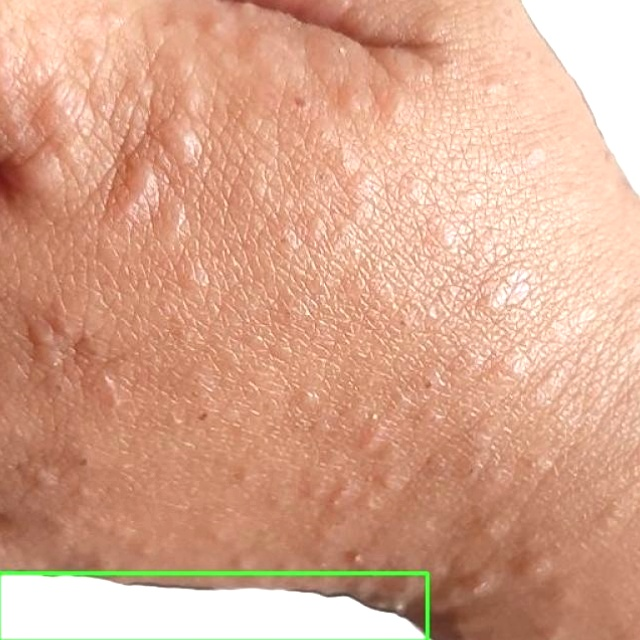Contact Dermatitis: (0, 573, 427, 639)
